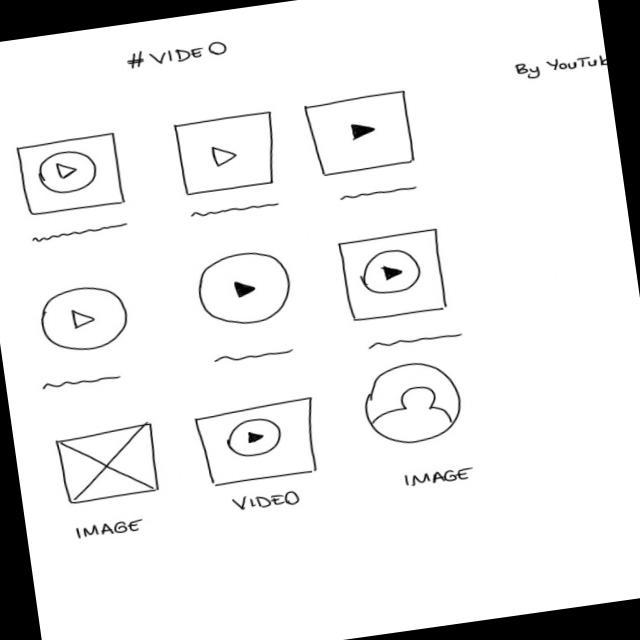image: (357, 357, 470, 452), (54, 421, 167, 509)
label: (123, 36, 232, 73), (513, 50, 609, 84), (69, 517, 150, 545), (231, 488, 308, 516), (403, 464, 479, 492)
text: (30, 222, 132, 247), (366, 329, 466, 353), (211, 344, 299, 369), (189, 198, 283, 221), (42, 371, 127, 394), (338, 182, 426, 202)
